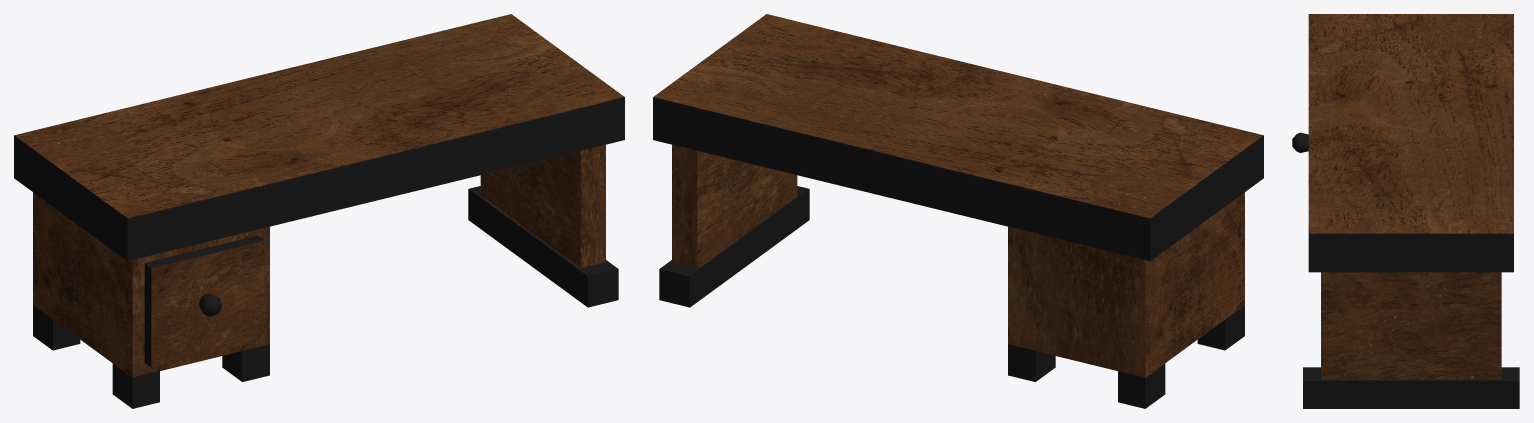
Rendered from Table.fbx.
3 renders of one model, left to right at view 1: azimuth 30°, elevation 25°; view 2: azimuth 150°, elevation 25°; view 3: azimuth 270°, elevation 25°, orthographic. The views are drawn at different scales.
Parts seen in each view (by area): view 1: Table; view 2: Table; view 3: Table.
Part boxes in pixels (bbox=[...]): Table: bbox=[14, 14, 624, 408]; Table: bbox=[653, 14, 1263, 408]; Table: bbox=[1292, 14, 1519, 408].
Size of the model in its own units: 83.66 by 31.92 by 36.59.
1 material, 1 textured.
